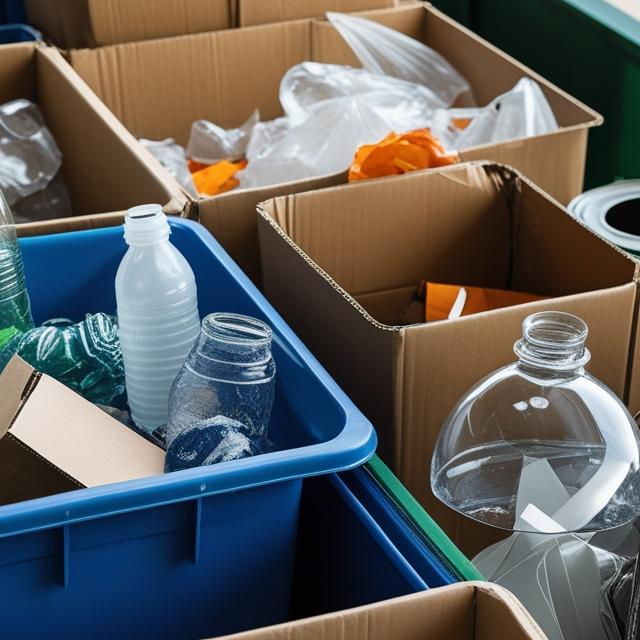plastic: (0, 123, 25, 360)
